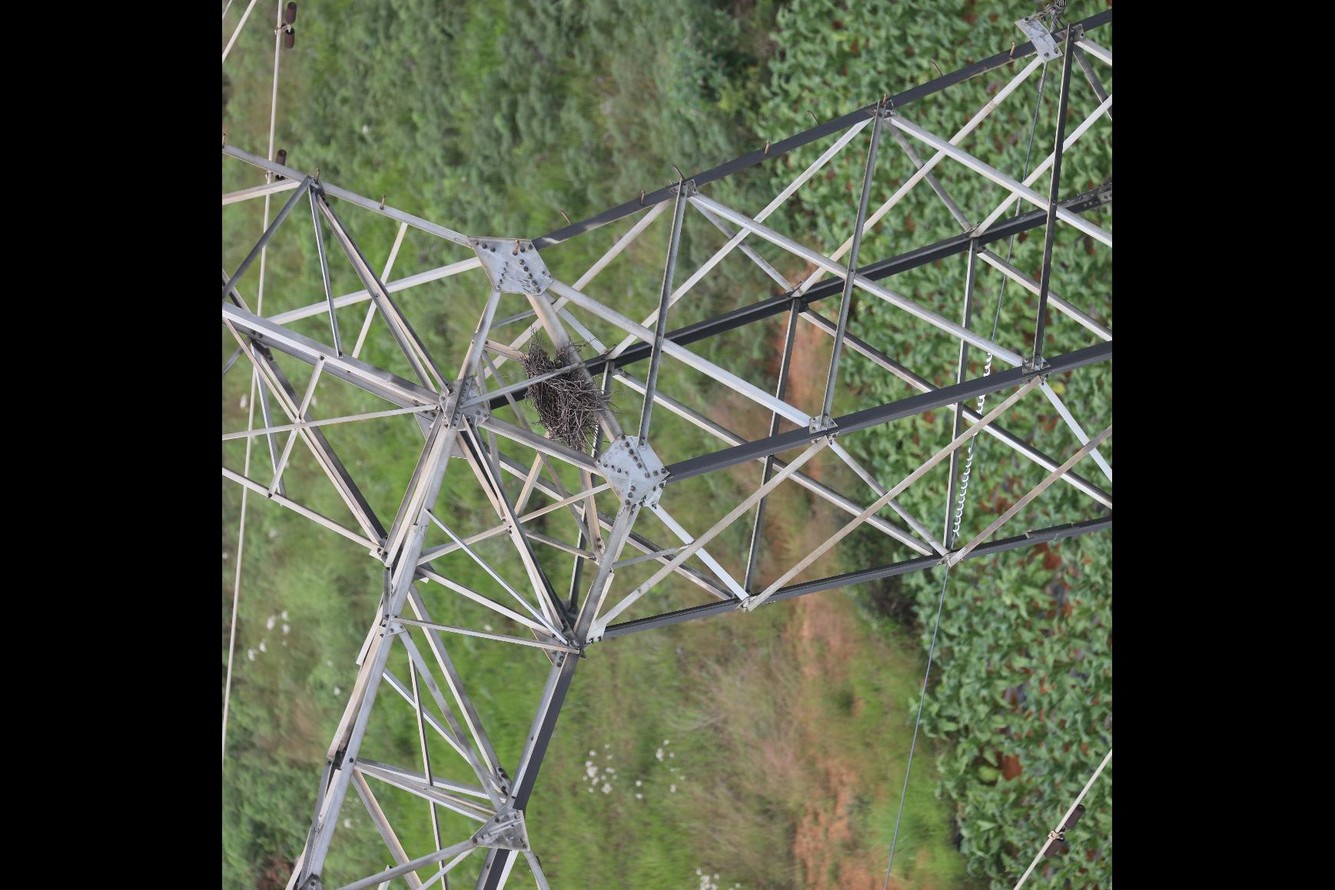damper: (269, 1, 299, 51)
nest: (521, 338, 613, 453)
